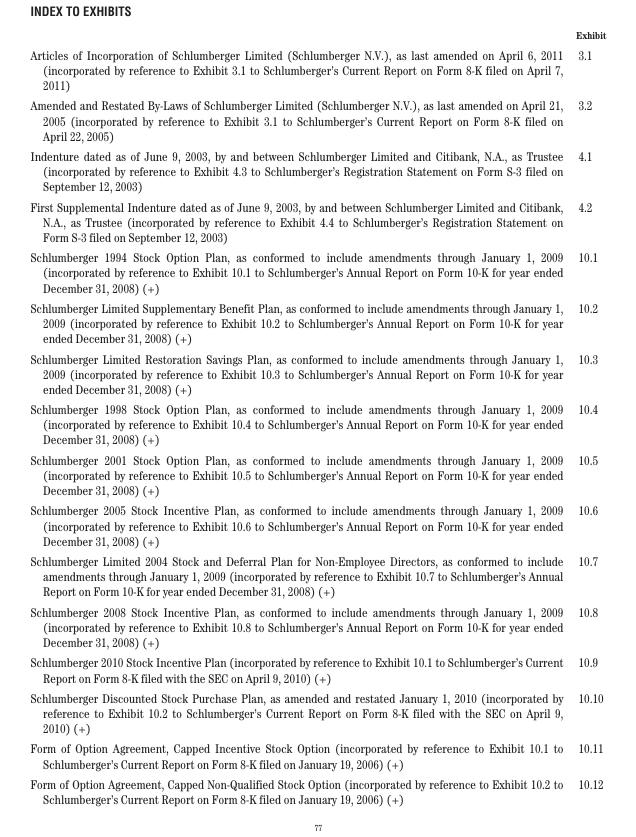table: (29, 28, 605, 805)
table column: (29, 28, 568, 805), (568, 28, 605, 805)
table column header: (29, 28, 605, 43)
table row: (29, 43, 605, 94), (29, 94, 605, 145), (29, 145, 605, 196), (29, 246, 605, 297), (29, 347, 605, 398), (29, 398, 605, 449), (29, 499, 605, 550), (29, 550, 605, 601), (29, 196, 605, 246), (29, 297, 605, 347), (29, 449, 605, 499), (29, 601, 605, 651), (29, 687, 605, 737), (29, 651, 605, 687), (29, 737, 605, 773), (29, 773, 605, 805), (29, 28, 605, 43)
